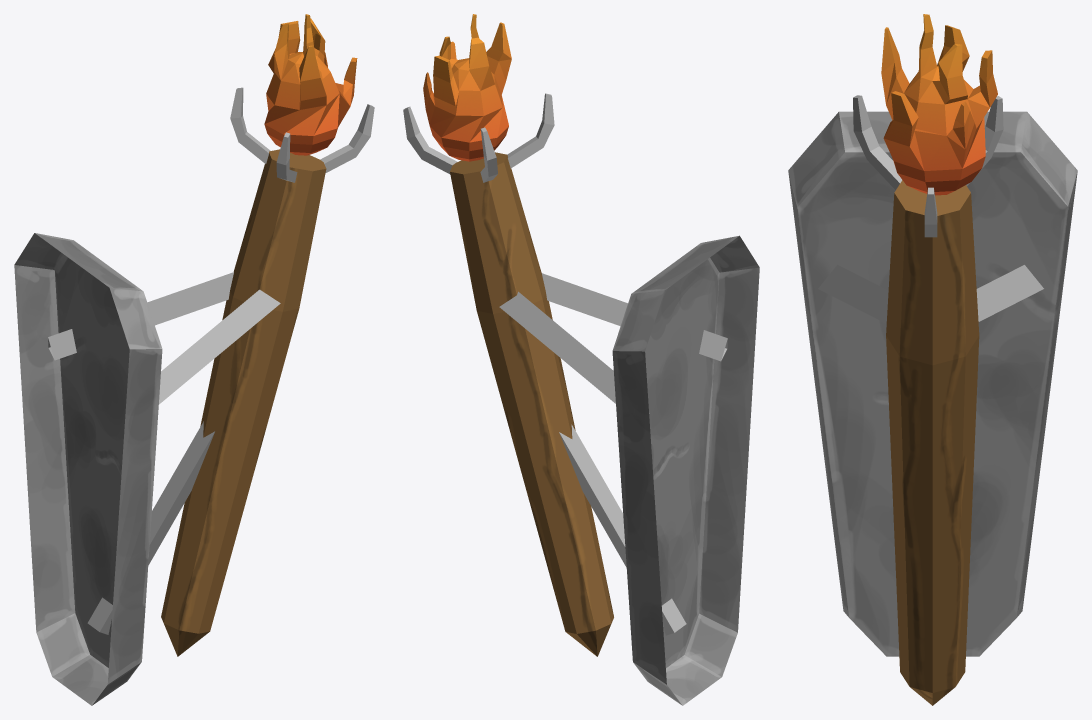
File: Torch.obj
3 views of the same model, side by side, from view 1: azimuth 30°, elevation 25°; view 2: azimuth 150°, elevation 25°; view 3: azimuth 270°, elevation 25° (orthographic). The views are drawn at different scales.
Visible parts, largest first — view 1: Torch_Geo; view 2: Torch_Geo; view 3: Torch_Geo.
Part boxes in pixels (x1,y1,x2,y2): Torch_Geo: [14, 14, 374, 705]; Torch_Geo: [403, 14, 759, 705]; Torch_Geo: [788, 14, 1077, 705].
Size of the model in its own units: 5.08 by 10.04 by 3.38.
